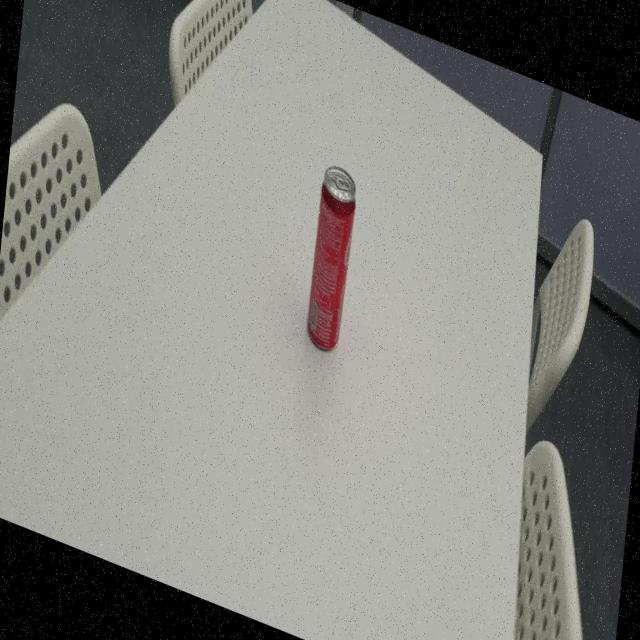coca-cola: (303, 157, 362, 365)
